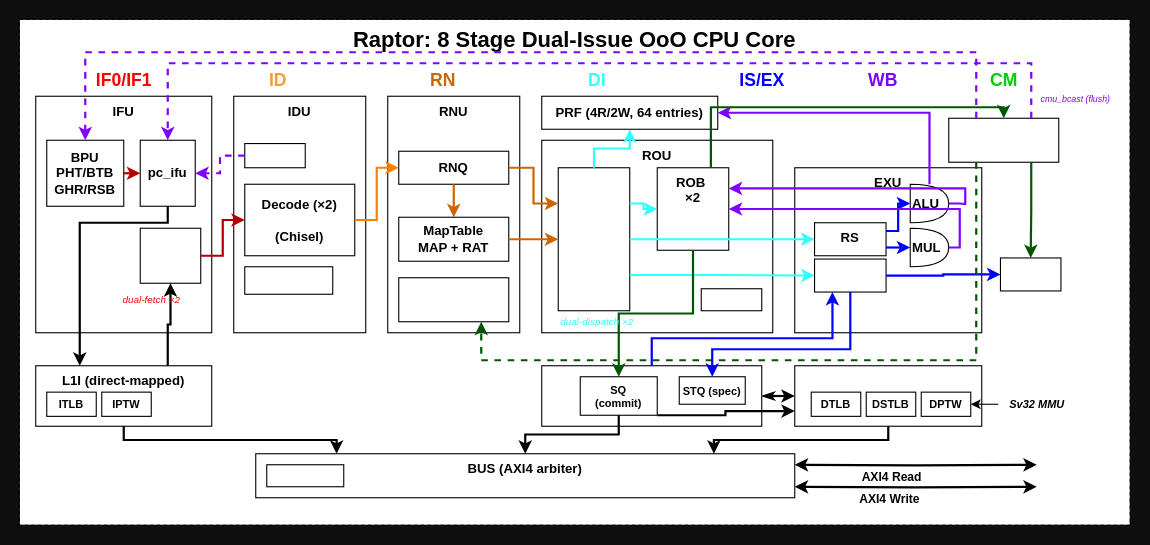
Some shapes in this 1150 by 545 pixel diagram are drawn without their labels. The box of each missing label's shape, as (x1, y1, x2, y2) in pixels:
bypass: (700, 288, 762, 311)
C Decom: (244, 266, 333, 294)
CLINT: (266, 464, 344, 487)
CMU (dual commit): (948, 117, 1059, 162)
CSR: (999, 257, 1061, 291)
Freelist (PRF): (398, 277, 509, 322)
inst. (×2): (139, 227, 201, 283)
IOQ: (813, 258, 886, 292)
L1D (multi-way SA): (794, 365, 982, 426)
LSU: (541, 365, 762, 426)
resteer: (244, 142, 305, 168)
UOQ ×2: (557, 167, 630, 311)
